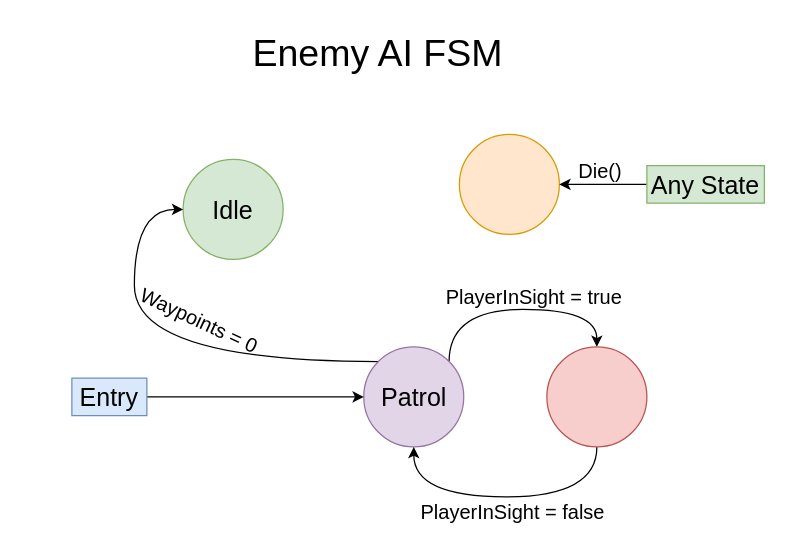
Image size: 786x545. Some labels were removed from this diagram. Each missing label, with the centre of its shape:
"Chase" goes at (596,396).
"Die" goes at (508,183).
